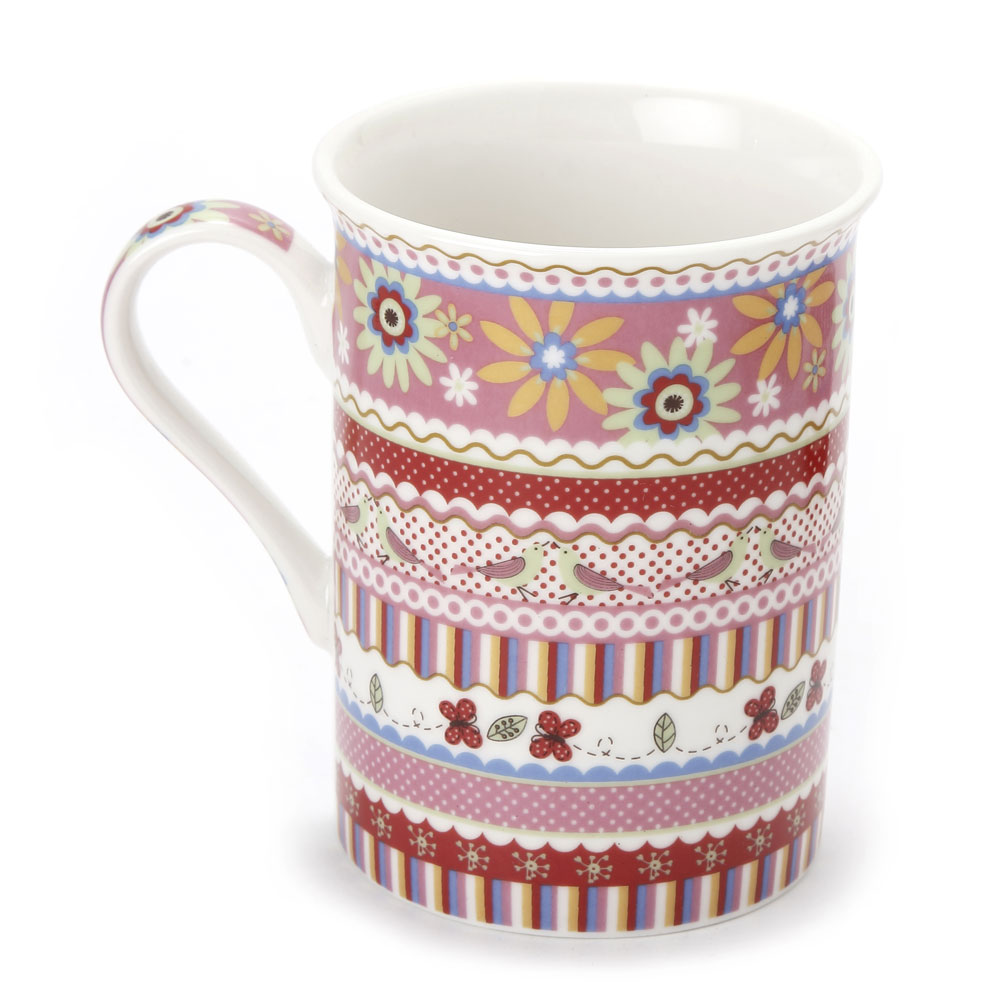cup: (94, 79, 883, 944)
